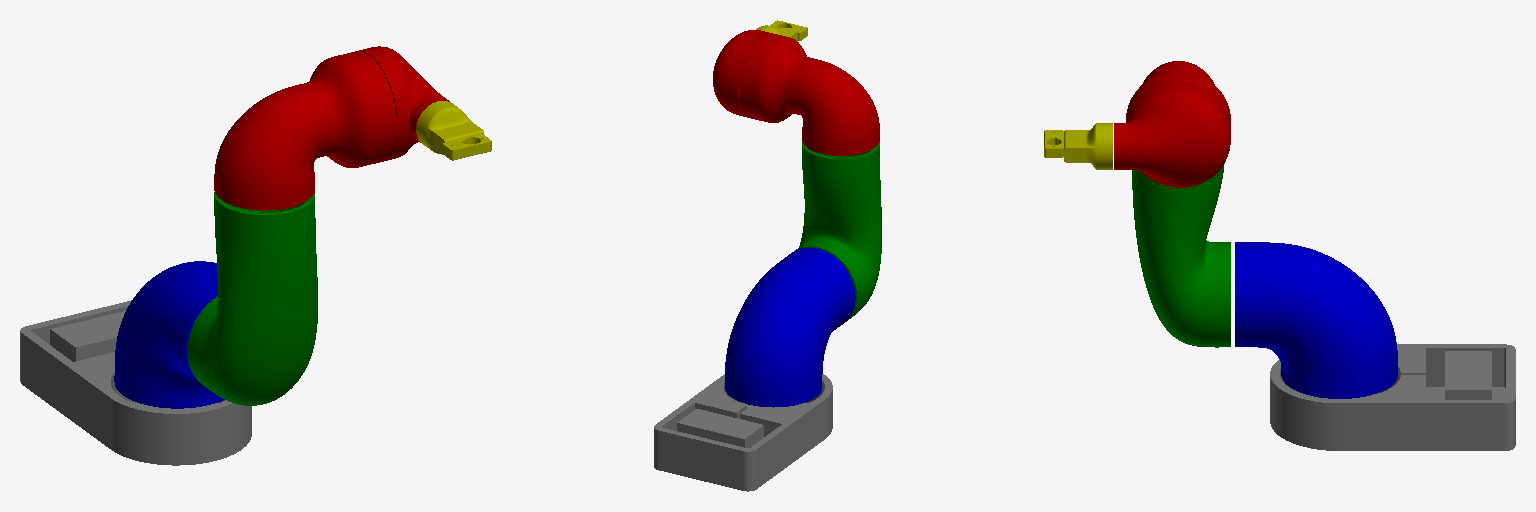
URDF robot description (my_robotic_arm):
<?xml version="1.0"?>
<robot name="my_robotic_arm">

  <link name="base_link">
    <visual>
      <origin xyz="0 0 0" rpy="0 0 0"/>
      <geometry>
        <mesh filename="Models/base_link v13.stl" scale="0.001 0.001 0.001"/>
      </geometry>
      <material name="grey">
        <color rgba="0.5 0.5 0.5 1"/>
      </material>
    </visual>
  </link>
  <link name="shoulder_link">
    <visual>
      <origin xyz="0 0 0" rpy="0 0 -1.570796"/>
      <geometry>
        <mesh filename="Models/Shoulder.stl" scale="0.001 0.001 0.001"/>
      </geometry>
      <material name="blue">
        <color rgba="0 0 0.8 1"/>
      </material>
    </visual>
  </link>
     <joint name="shoulder_yaw_joint" type="revolute">
    <parent link="base_link"/>
    <child link="shoulder_link"/>
    
    <origin xyz="0.000986 -0.000494 0.065" rpy="0 0 0"/> 
    
    <axis xyz="0 0 1"/>
    
    <limit effort="10.0" lower="-1.5708" upper="1.5708" velocity="1.0"/>
  </joint>
  

<link name="lower-arm">
    <visual>
      <origin xyz="0 0 0" rpy="0 0 0"/>
      <geometry>
        <mesh filename="Models/lower_arm.stl" scale="0.001 0.001 0.001"/>
      </geometry>
      <material name="blue">
        <color rgba="0 0.5 0 1"/>
      </material>
    </visual>
  </link>

  <joint name="lower_arm_joint" type="revolute">
    <parent link="shoulder_link"/>
    <child link="lower-arm"/>
    
    <origin xyz="0 -0.098 0.055" rpy="-1.570796 0 3.14159"/> 
    
    <axis xyz="0 0 1"/>
        <limit effort="10.0" lower="-1.5708" upper="1.5708" velocity="1.0"/>
      </joint>

<link name="upper-arm">
    <visual>
      <origin xyz="0 0 0" rpy="0 0 0"/>
      <geometry>
        <mesh filename="Models/elbowarm.stl" scale="0.001 0.001 0.001"/>
      </geometry>
      <material name="blue">
        <color rgba="0.7 0 0 1"/>
      </material>
    </visual>
  </link>

  <joint name="upper_arm_joint" type="revolute">
    <parent link="lower-arm"/>
    <child link="upper-arm"/>
    
    <origin xyz="0 -0.149 0.04" rpy="-1.570796 0 3.14159"/> 
    
    <axis xyz="0 0 1"/>
        <limit effort="10.0" lower="-1.5708" upper="1.5708" velocity="1.0"/>
      </joint>

<link name="forearm">
    <visual>
      <origin xyz="0 0 0" rpy="0 0 0"/>
      <geometry>
        <mesh filename="Models/forearm.stl" scale="0.001 0.001 0.001"/>
      </geometry>
      <material name="blue">
        <color rgba="0.7 0 0 1"/>
      </material>
    </visual>
  </link>

  <joint name="forearm_joint" type="revolute">
    <parent link="upper-arm"/>
    <child link="forearm"/>
    
    <origin xyz="0.096 -0.005 0.05" rpy="1.570796 0 1.570796"/> 
    
    <axis xyz="0 0 1"/>
    <limit effort="10.0" lower="-1.5708" upper="1.5708" velocity="1.0"/>
      </joint>
<link name="end">
    <visual>
      <origin xyz="-0.065 0 0.03" rpy="1.570796 0 3.14159"/>
      <geometry>
        <mesh filename="Models/GripperSupport.stl" scale="0.001 0.001 0.001"/>
      </geometry>
      <material name="blue">
        <color rgba="0.7 0.7 0 1"/>
      </material>
    </visual>
  </link>
    <joint name="end-joint" type="fixed">
    <parent link="forearm"/>
    <child link="end"/>
      </joint>
      
  <link name="gripper">
    <visual>
      <origin xyz="-0.1 0.01 0.075" rpy="3.14159 1.570796 0"/>
      <geometry>
        <mesh filename="Models/GRIPPER_ASSEMBLY v1_Assembly v41_ad_1_Body1.stl" scale="0.001 0.001 0.001"/>
      </geometry>
      <material name="blue">
        <color rgba="0.7 0.7 0 1"/>
      </material>
    </visual>
  </link>
    <joint name="end-joint" type="fixed">
    <parent link="end"/>
    <child link="gripper"/>
      </joint>
</robot>

--- Render facts (derived) ---
3 views of the same robot in one strip: view 1: azimuth 30°, elevation 25°; view 2: azimuth 150°, elevation 25°; view 3: azimuth 270°, elevation 25° (orthographic).
Robot: my_robotic_arm — 7 links, 6 joints (4 revolute, 2 fixed); root link base_link; default pose: all joints at 0.
Visible links, largest first — view 1: lower-arm, upper-arm, base_link, shoulder_link, forearm, end, gripper; view 2: shoulder_link, base_link, upper-arm, lower-arm, forearm; view 3: base_link, shoulder_link, lower-arm, forearm, end, upper-arm, gripper.
Boxes of the visible links, x1,y1,x2,y2 form: lower-arm: (187,192,317,405); upper-arm: (214,51,396,210); base_link: (20,300,251,465); shoulder_link: (114,261,224,408); forearm: (359,46,449,161); end: (416,101,483,154); gripper: (443,134,491,160); shoulder_link: (725,248,855,407); base_link: (654,374,832,491); upper-arm: (739,33,879,155); lower-arm: (795,142,881,321); forearm: (713,30,768,117); base_link: (1270,344,1515,450); shoulder_link: (1235,242,1397,398); lower-arm: (1132,163,1230,347); forearm: (1114,84,1230,187); end: (1064,123,1112,169); upper-arm: (1126,61,1230,124); gripper: (1044,130,1063,157).
Bounding box of the posed robot: 0.207 × 0.4032 × 0.364 m (x, y, z).
Meshes: 7 distinct files referenced, 7 mesh visuals loaded (7 binary STL).
